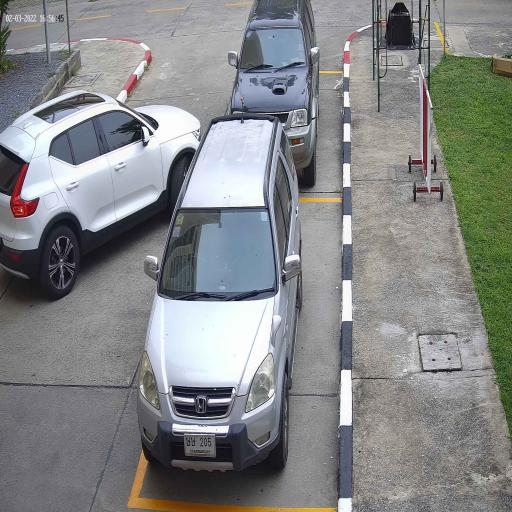car: (138, 119, 300, 468), (0, 89, 202, 295), (230, 0, 320, 182)
